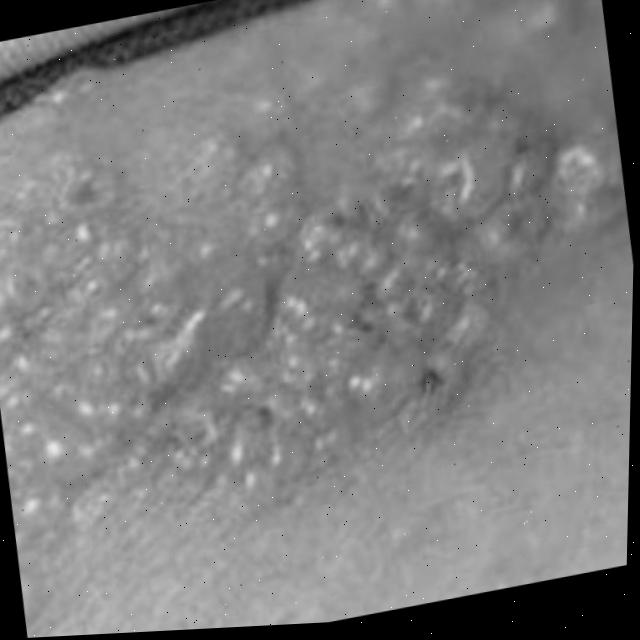Shingles: (0, 33, 639, 572)
